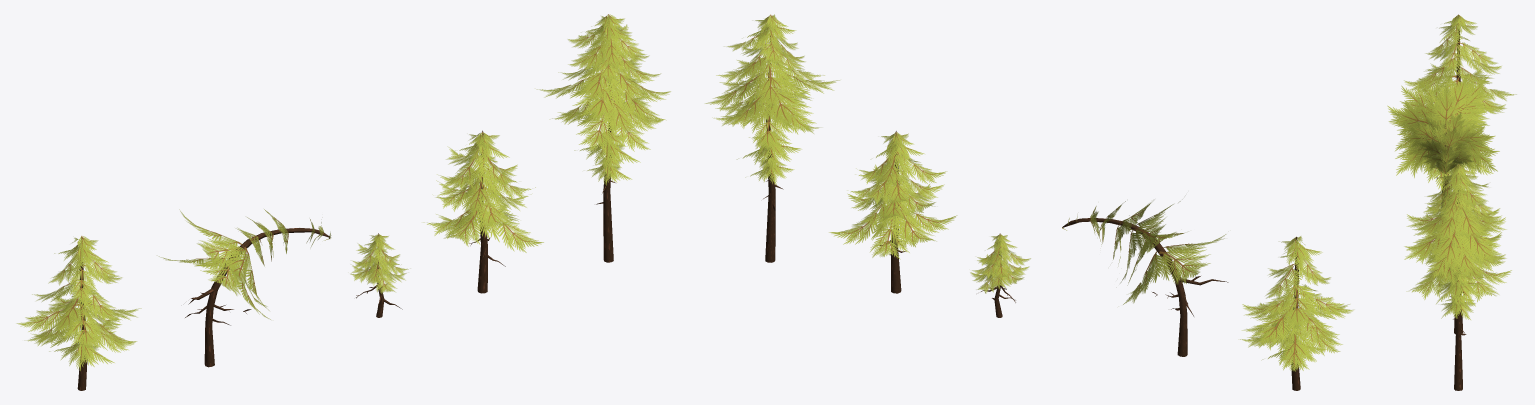
Rendered from Pine_Trees.glb.
The picture shows the model from 3 angles, left to right: view 1: azimuth 30°, elevation 25°; view 2: azimuth 150°, elevation 25°; view 3: azimuth 270°, elevation 25°; orthographic projection. The views are drawn at different scales.
Parts seen in each view (by area): view 1: PineTree_2, PineTree_5, PineTree_1, PineTree_4, PineTree_3; view 2: PineTree_2, PineTree_1, PineTree_5, PineTree_4, PineTree_3; view 3: PineTree_2, PineTree_4, PineTree_5, PineTree_1.
Part boxes in pixels (x1,y1,x2,y2): PineTree_2: (536, 14, 670, 262); PineTree_5: (16, 236, 141, 390); PineTree_1: (423, 130, 543, 293); PineTree_4: (159, 209, 331, 367); PineTree_3: (350, 233, 408, 317); PineTree_2: (705, 14, 839, 262); PineTree_1: (829, 131, 957, 293); PineTree_5: (1240, 236, 1353, 390); PineTree_4: (1062, 200, 1228, 356); PineTree_3: (970, 233, 1030, 317); PineTree_2: (1404, 163, 1506, 390); PineTree_4: (1387, 73, 1499, 207); PineTree_5: (1404, 14, 1516, 128); PineTree_1: (1406, 189, 1511, 334).
Size of the model in its own units: 18.69 by 6.89 by 3.74.
Materials: 2 (2 with a texture image).
